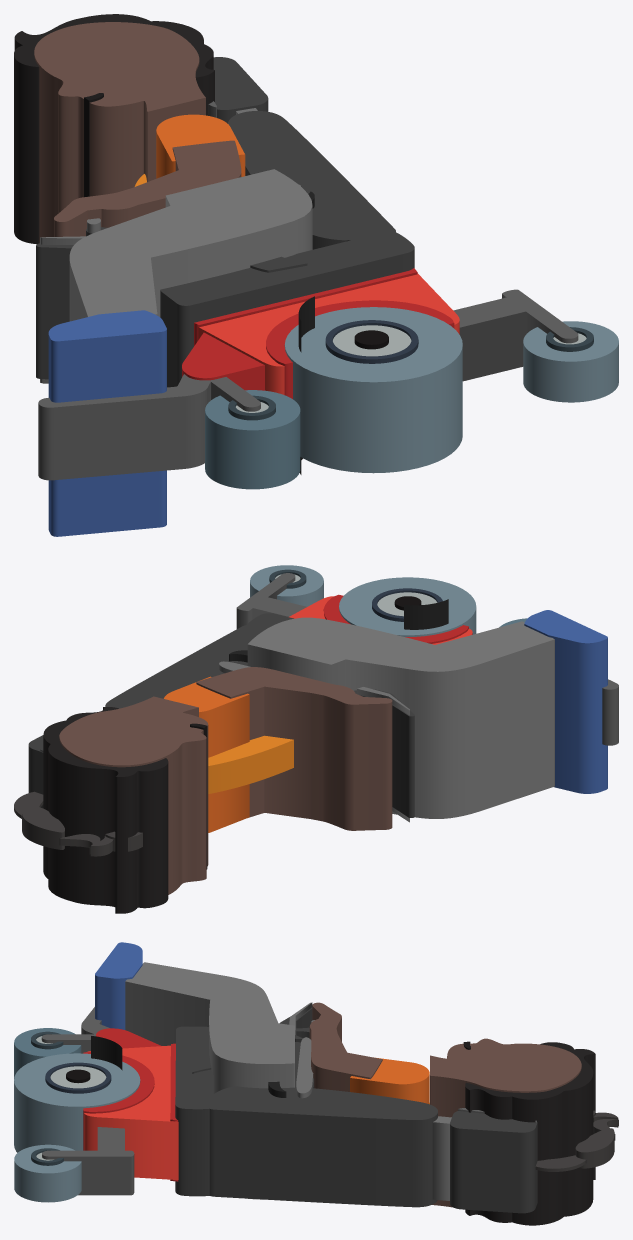
Rendered from emoji_u1f9d1_1f3ff_200d_1f9bc.glb.
3 views of the same model, one above another, from view 1: azimuth 30°, elevation 25°; view 2: azimuth 150°, elevation 25°; view 3: azimuth 270°, elevation 25° (orthographic). The views are drawn at different scales.
Visible parts, largest first — view 1: emoji_u1f9d1_1f3ff_200d_1f9bc; view 2: emoji_u1f9d1_1f3ff_200d_1f9bc; view 3: emoji_u1f9d1_1f3ff_200d_1f9bc.
Boxes of the visible parts, <box> form: emoji_u1f9d1_1f3ff_200d_1f9bc: <box>14,14,618,536</box>; emoji_u1f9d1_1f3ff_200d_1f9bc: <box>14,565,618,913</box>; emoji_u1f9d1_1f3ff_200d_1f9bc: <box>14,942,618,1225</box>.
Bounding box in the file's own units: 0.024 × 0.0086 × 0.034.
